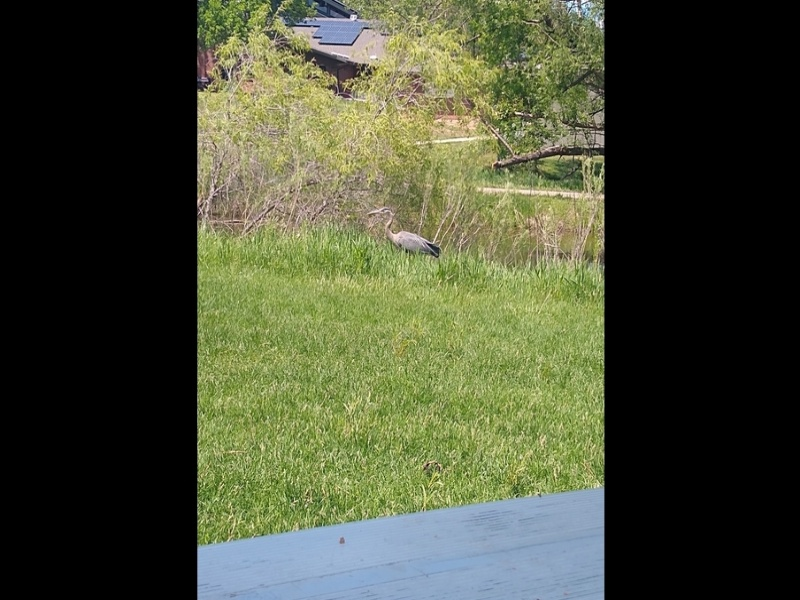heron: (367, 206, 445, 270)
